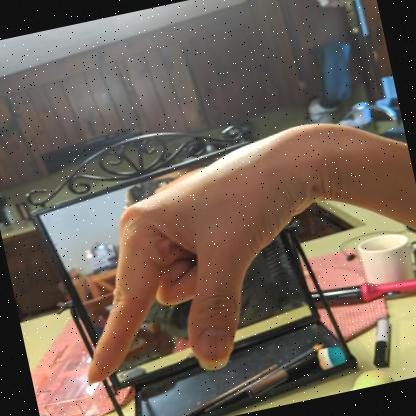Q: (86, 123, 325, 395)
